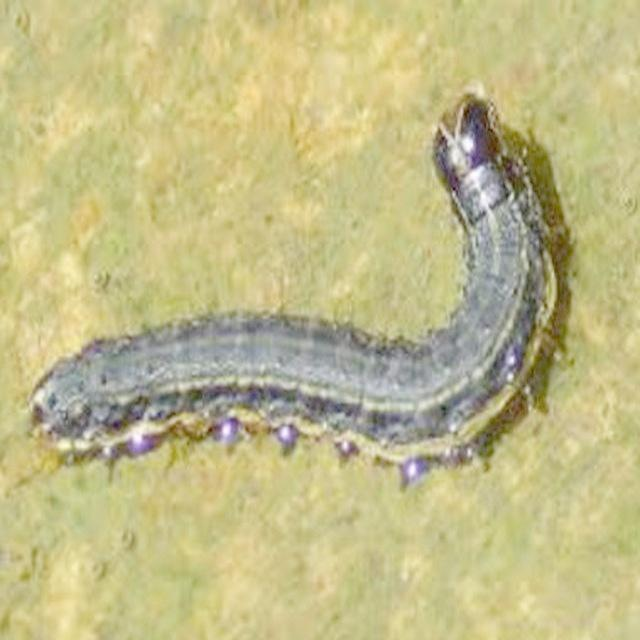gusano_cogollero: (28, 86, 556, 488)
